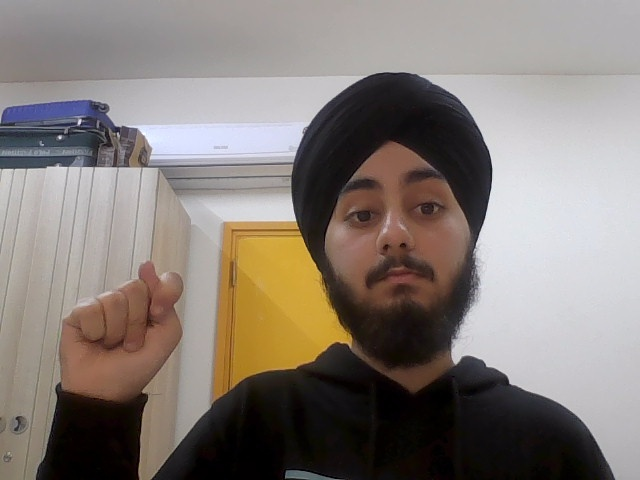Bathroom: (44, 259, 190, 394)
